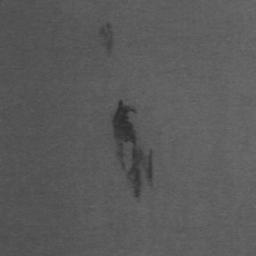Iron scale compression: (112, 100, 142, 200), (98, 22, 114, 58), (146, 149, 153, 190)
